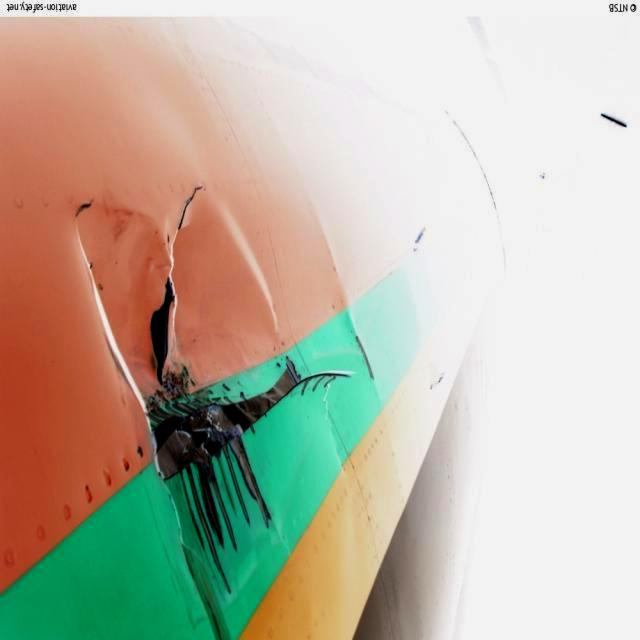crack: (146, 176, 209, 391)
